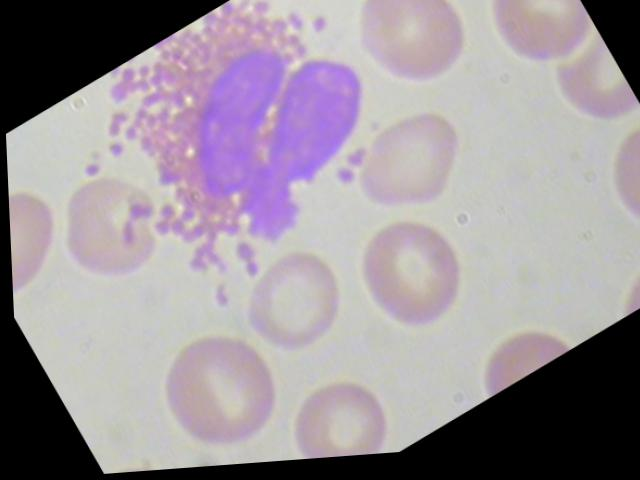Red Blood Cells: (134, 307, 306, 472), (335, 198, 486, 362), (338, 199, 489, 363), (39, 155, 189, 310), (331, 97, 487, 245), (327, 0, 498, 126), (223, 237, 361, 376), (462, 0, 606, 102), (269, 366, 405, 464), (6, 172, 80, 300)
White Blood Cells: (35, 0, 441, 356)
